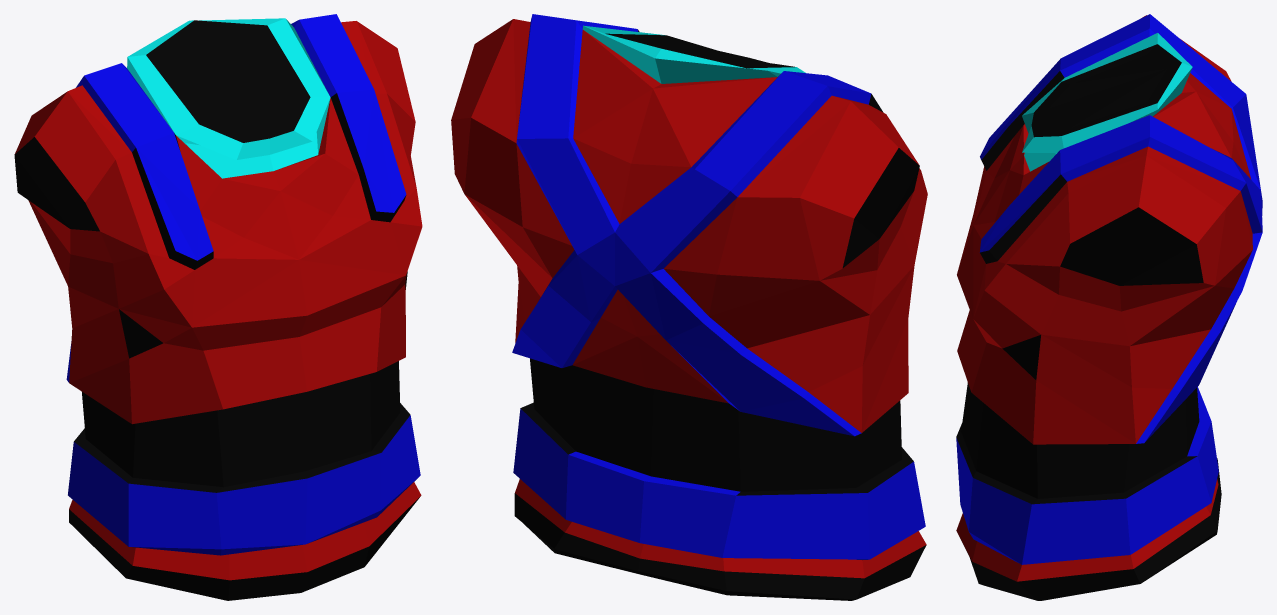
File: Chr_Torso_Male_Static_21.fbx
The picture shows the model from 3 angles, left to right: view 1: azimuth 30°, elevation 25°; view 2: azimuth 150°, elevation 25°; view 3: azimuth 270°, elevation 25°; orthographic projection. The views are drawn at different scales.
Parts seen in each view (by area): view 1: Chr_Torso_Male_21; view 2: Chr_Torso_Male_21; view 3: Chr_Torso_Male_21.
Part boxes in pixels (x1,y1,x2,y2): Chr_Torso_Male_21: (14,14,422,600); Chr_Torso_Male_21: (451,14,927,600); Chr_Torso_Male_21: (956,14,1262,600).
Size of the model in its own units: 50.2 by 65.69 by 36.8.
